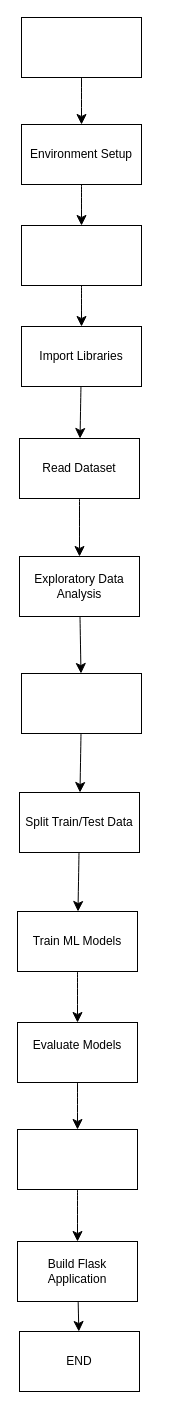
The diagram is 169 pixels wide and 1409 high, and some of its shapes have lost their labels. The box of each missing label's shape, as (x1, y1, x2, y2) in pixels:
Data Preprocessing: (20, 672, 142, 734)
Download Dataset: (20, 224, 142, 286)
Save Best Model: (16, 1128, 138, 1190)
START: (20, 16, 142, 78)
